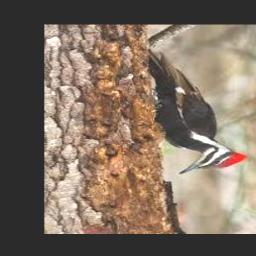Woodpecker: (147, 50, 246, 174)
